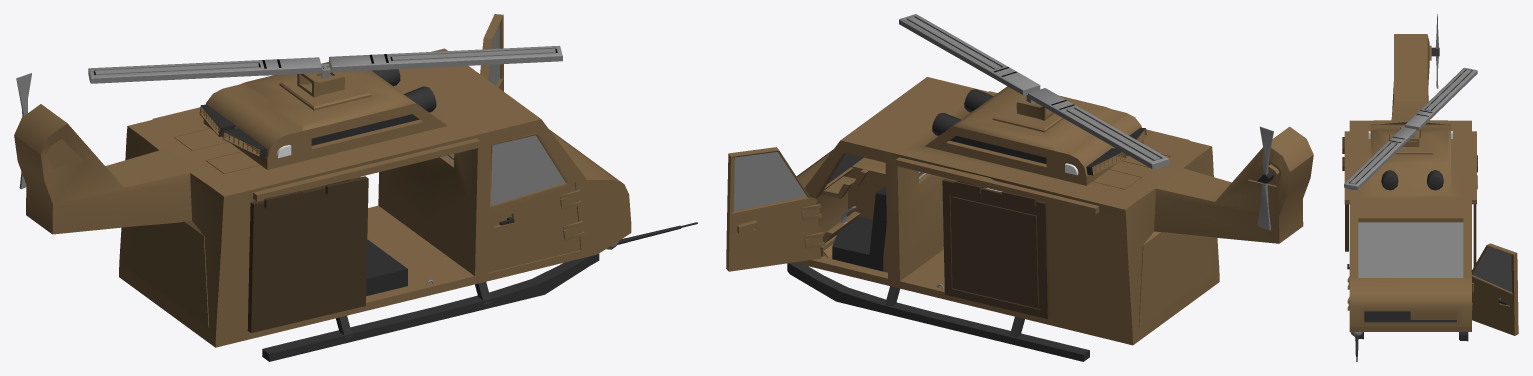
The model's file is heli .fbx.
3 views of the same model, side by side, from view 1: azimuth 30°, elevation 25°; view 2: azimuth 150°, elevation 25°; view 3: azimuth 270°, elevation 25° (orthographic). The views are drawn at different scales.
Visible parts, largest first — view 1: Torus, slide 14, SPINNER, door 1.000; view 2: Torus, Cube.002, door 1.000, SPINNER, HELI.002; view 3: Torus, door 1.000, SPINNER, slide 14, Cube.002, HELI.002.
Boxes of the visible parts, x1=… form: Torus: x1=14, y1=48, x2=697, y2=361; slide 14: x1=247, y1=176, x2=368, y2=332; SPINNER: x1=88, y1=46, x2=562, y2=83; door 1.000: x1=480, y1=14, x2=503, y2=91; Torus: x1=787, y1=77, x2=1313, y2=361; Cube.002: x1=942, y1=179, x2=1049, y2=318; door 1.000: x1=726, y1=147, x2=824, y2=271; SPINNER: x1=899, y1=14, x2=1169, y2=168; HELI.002: x1=1257, y1=126, x2=1273, y2=230; Torus: x1=1344, y1=34, x2=1476, y2=361; door 1.000: x1=1471, y1=243, x2=1518, y2=335; SPINNER: x1=1344, y1=67, x2=1477, y2=189; slide 14: x1=1342, y1=137, x2=1348, y2=251; Cube.002: x1=1473, y1=155, x2=1477, y2=266; HELI.002: x1=1435, y1=14, x2=1438, y2=88.
Size of the model in its own units: 238 by 104 by 91.68.
